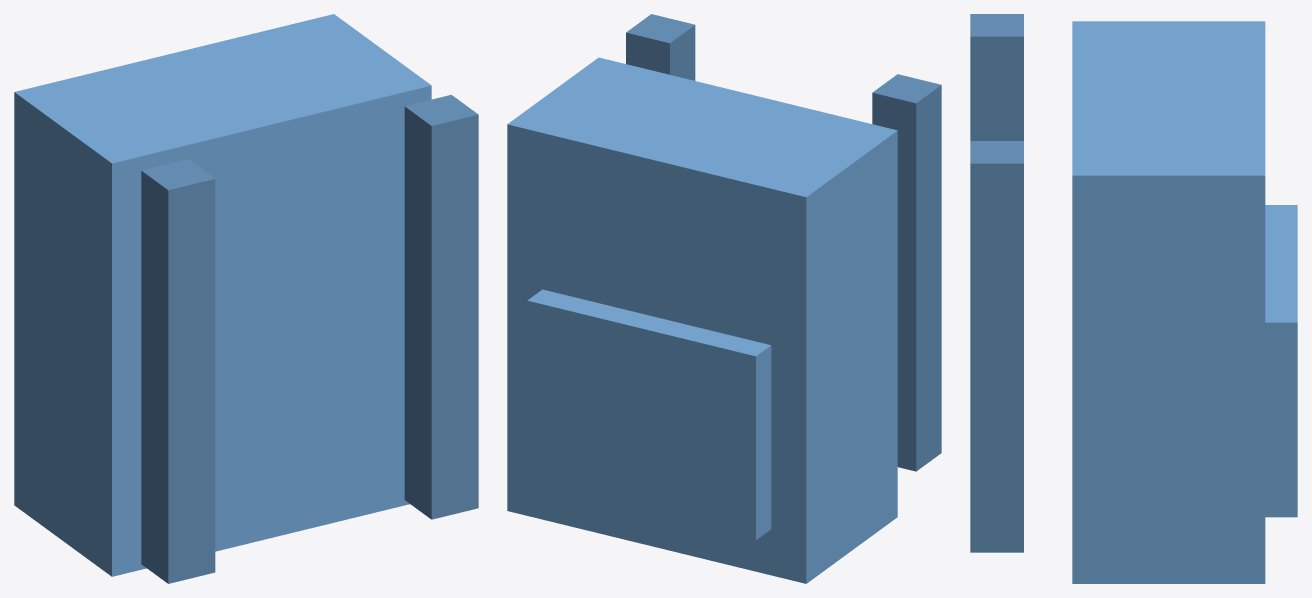
File: classic-backpack.glb
3 views of the same model, side by side, from view 1: azimuth 30°, elevation 25°; view 2: azimuth 150°, elevation 25°; view 3: azimuth 270°, elevation 25° (orthographic). The views are drawn at different scales.
Visible parts, largest first — view 1: BagBody, LeftStrap, RightStrap; view 2: BagBody, FrontPocket, RightStrap, LeftStrap; view 3: BagBody, LeftStrap, FrontPocket, RightStrap.
Boxes of the visible parts, box(x1,y1,x2,y2) form: BagBody: box(14, 14, 431, 576); LeftStrap: box(404, 94, 478, 519); RightStrap: box(141, 159, 215, 583); BagBody: box(507, 57, 897, 583); FrontPocket: box(527, 289, 771, 540); RightStrap: box(872, 74, 941, 471); LeftStrap: box(626, 14, 695, 80); BagBody: box(1072, 21, 1265, 583); LeftStrap: box(970, 141, 1023, 552); FrontPocket: box(1265, 205, 1297, 517); RightStrap: box(970, 14, 1023, 140).
Size of the model in its own units: 0.34 by 0.43 by 0.305.
